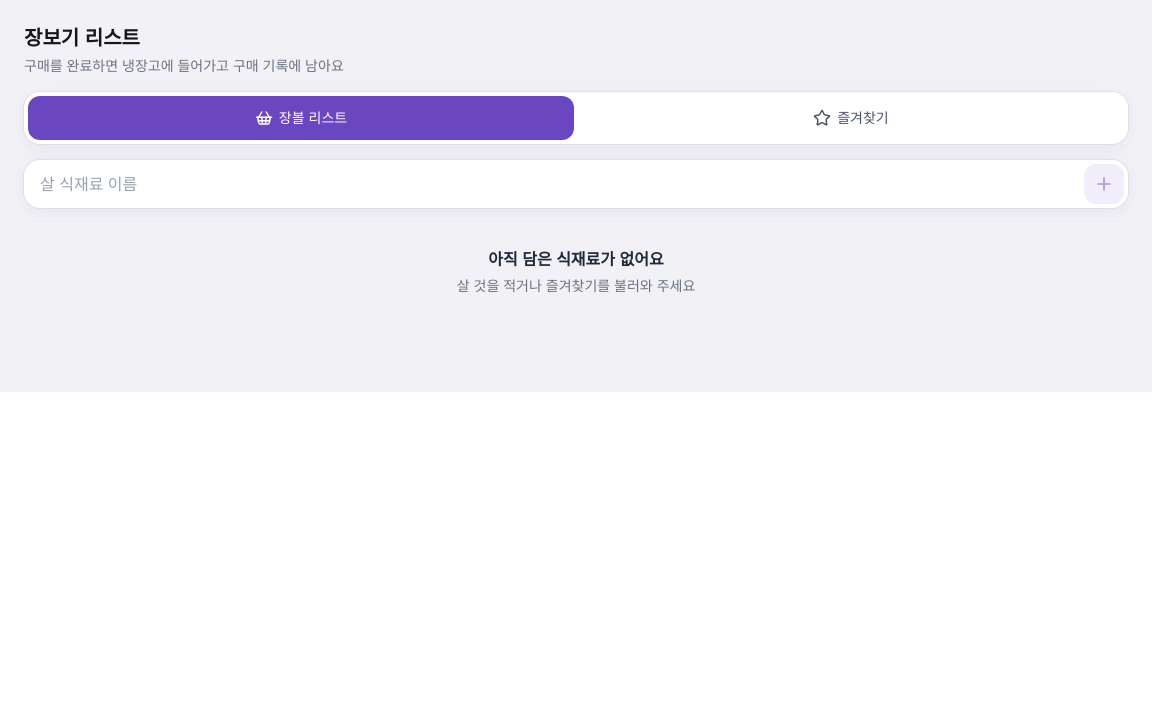
it: GroceryListPage › 전체 지우기를 되돌릴 수 있다
Type "우유" into the field labelled "살 식재료 이름". click: [560, 184]
box: x1=40 y1=160 x2=1080 y2=208
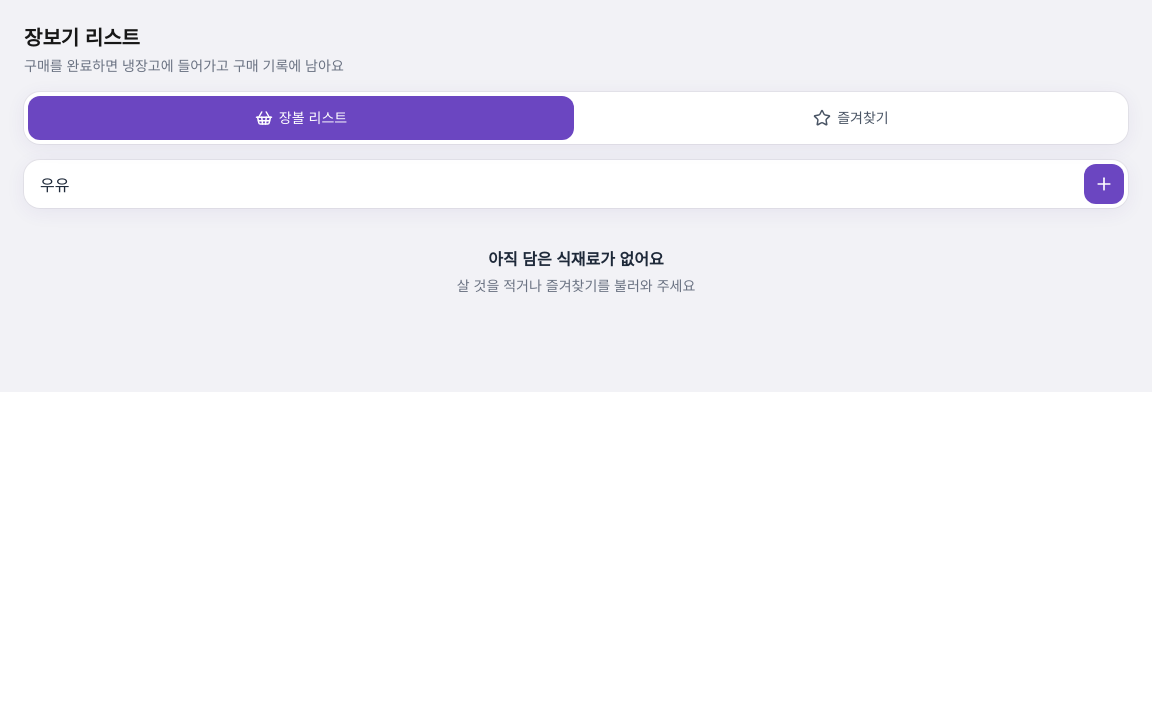
Submit the form from the field named "살 식재료 이름", box x1=40 y1=160 x2=1080 y2=208
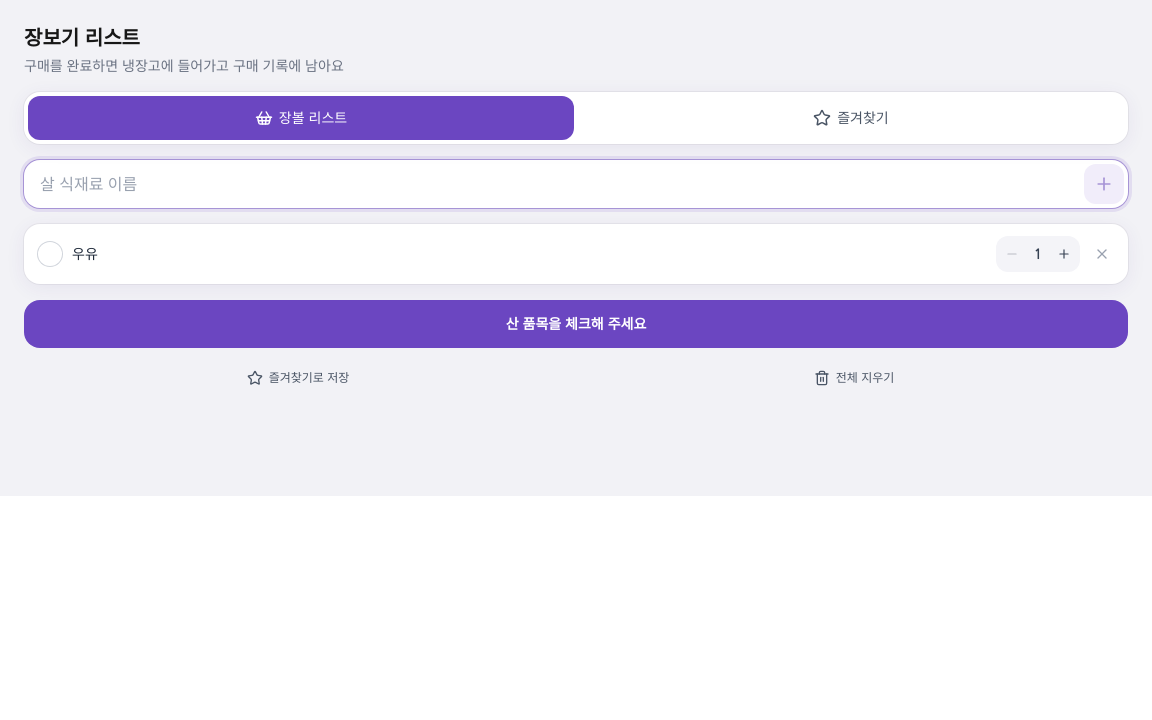
Click the button "전체 지우기". click: [854, 378]
box: x1=580 y1=356 x2=1128 y2=400
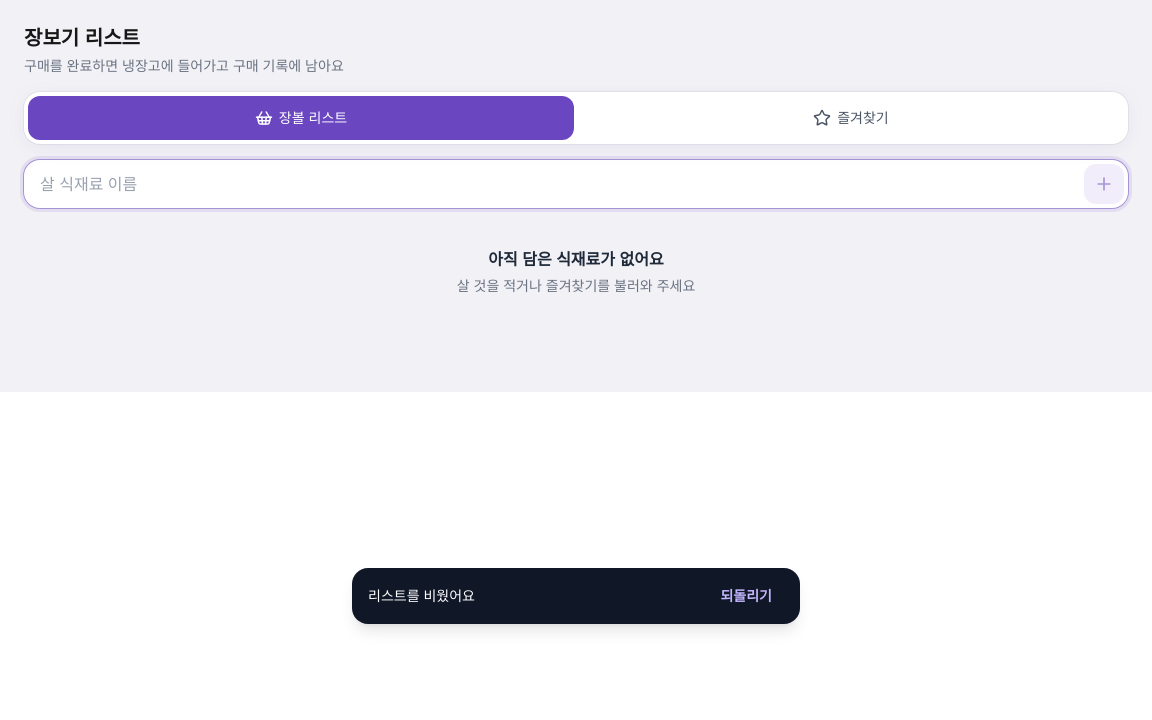
Check: the text "우유" is gone
Click the button "되돌리기". click: [746, 596]
box: x1=708 y1=576 x2=784 y2=616
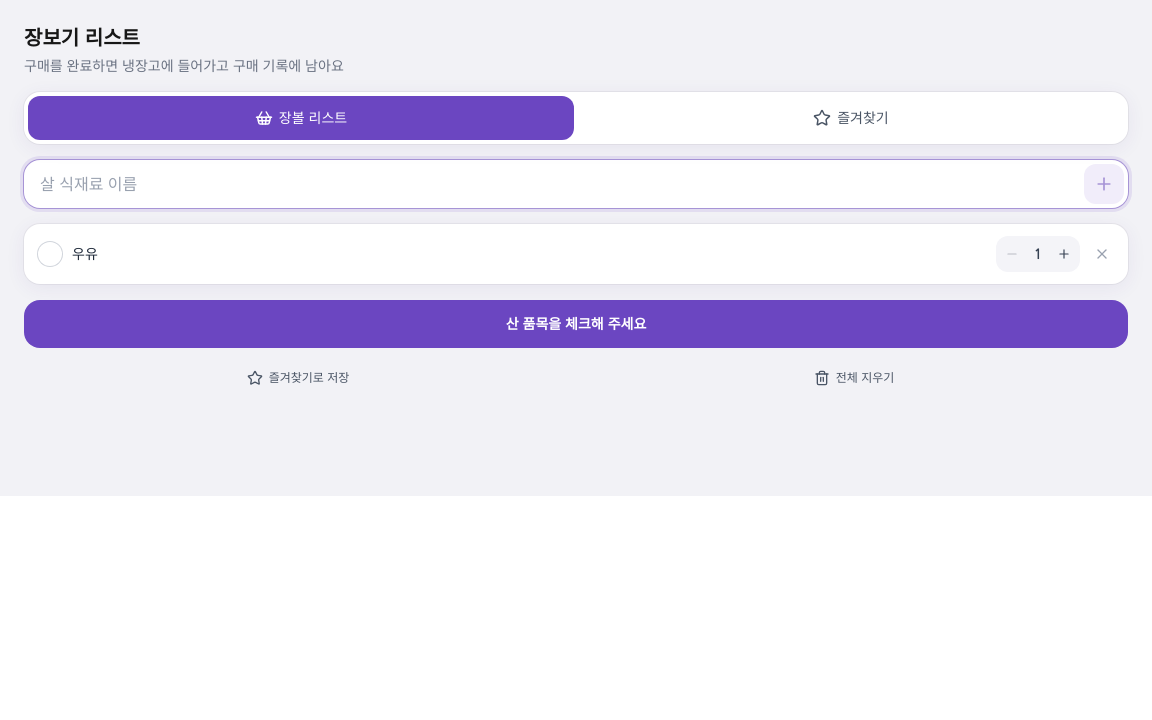
Check: the text "우유" is shown, box x1=72 y1=247 x2=98 y2=261
